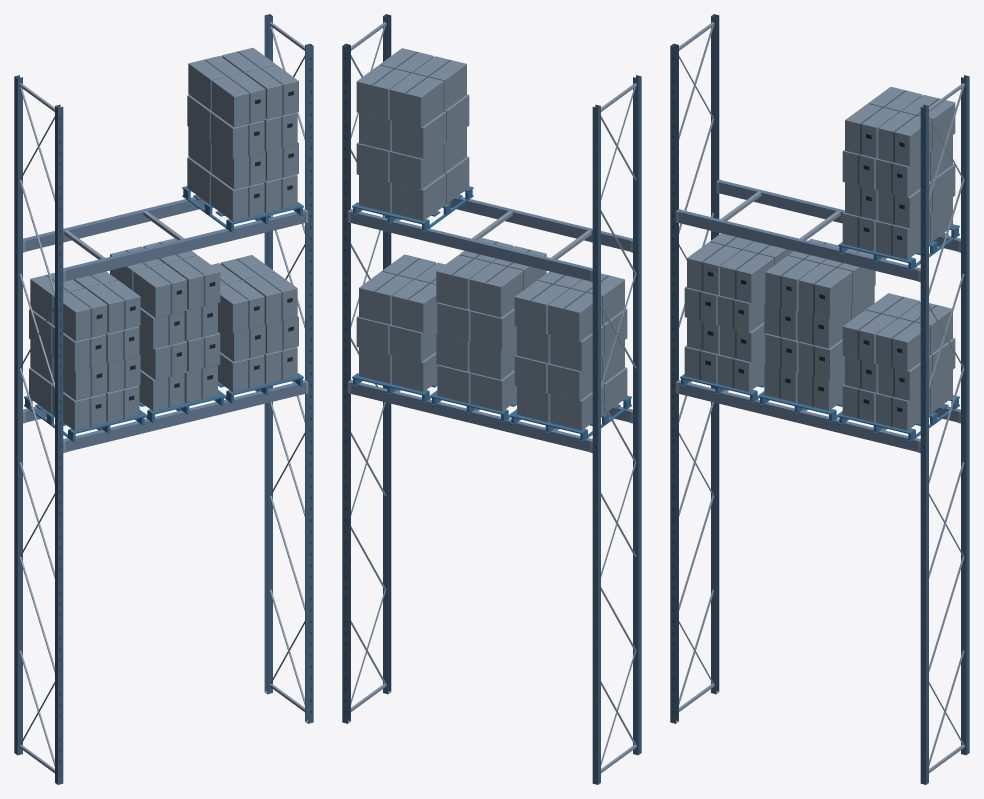
File: SM_GHS_V2Rack_A_Pass_W36176_Occ70.fbx
3 renders of one model, left to right at view 1: azimuth 30°, elevation 25°; view 2: azimuth 150°, elevation 25°; view 3: azimuth 330°, elevation 25°, orthographic.
Parts seen in each view (by area): view 1: SM_GHS_V2Rack_A_Pass_W36176_Occ70; view 2: SM_GHS_V2Rack_A_Pass_W36176_Occ70; view 3: SM_GHS_V2Rack_A_Pass_W36176_Occ70.
Boxes of the visible parts, x1,y1,x2,y2 form: SM_GHS_V2Rack_A_Pass_W36176_Occ70: [14, 14, 313, 784]; SM_GHS_V2Rack_A_Pass_W36176_Occ70: [342, 14, 641, 784]; SM_GHS_V2Rack_A_Pass_W36176_Occ70: [670, 14, 969, 784].
Size of the model in its own units: 362 by 122 by 915.
